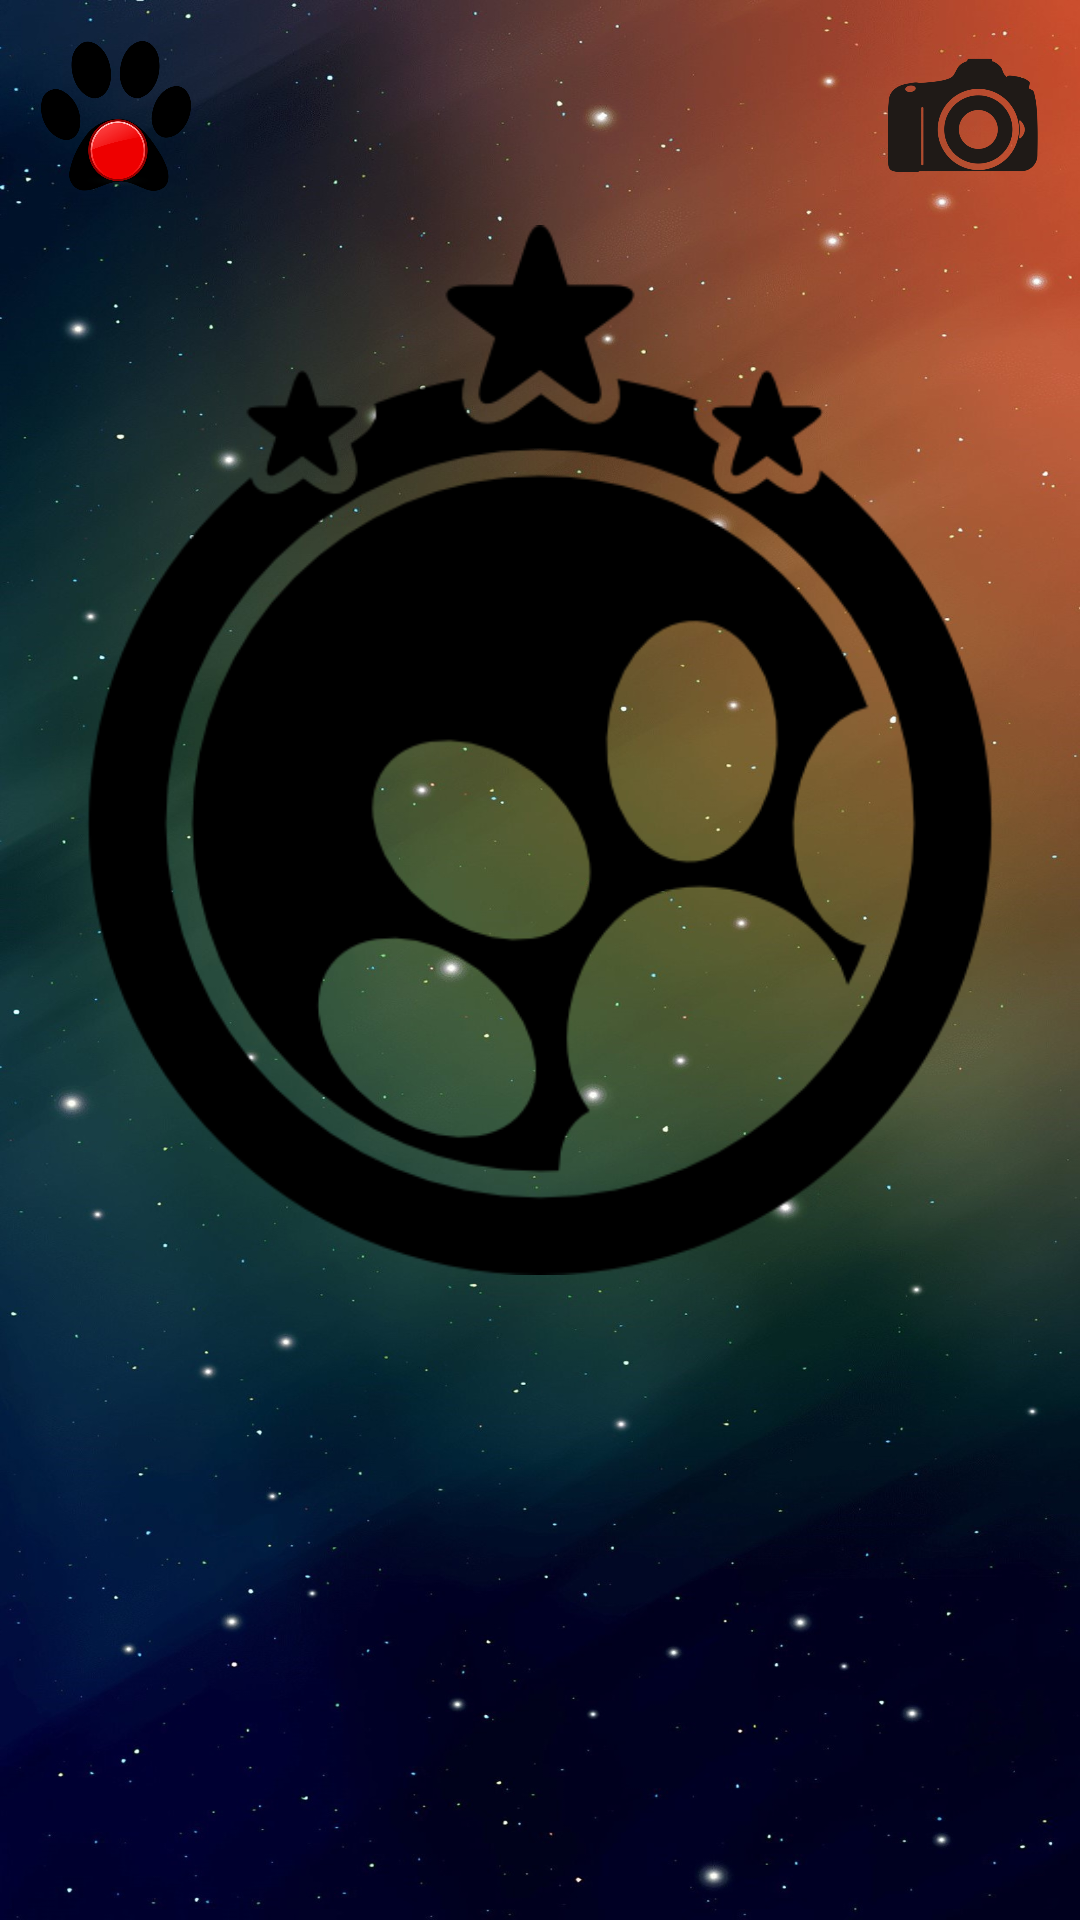

Named icons in this screenshot (1080x1920) and their centers, (x,y):
bcamera: (963,116)
